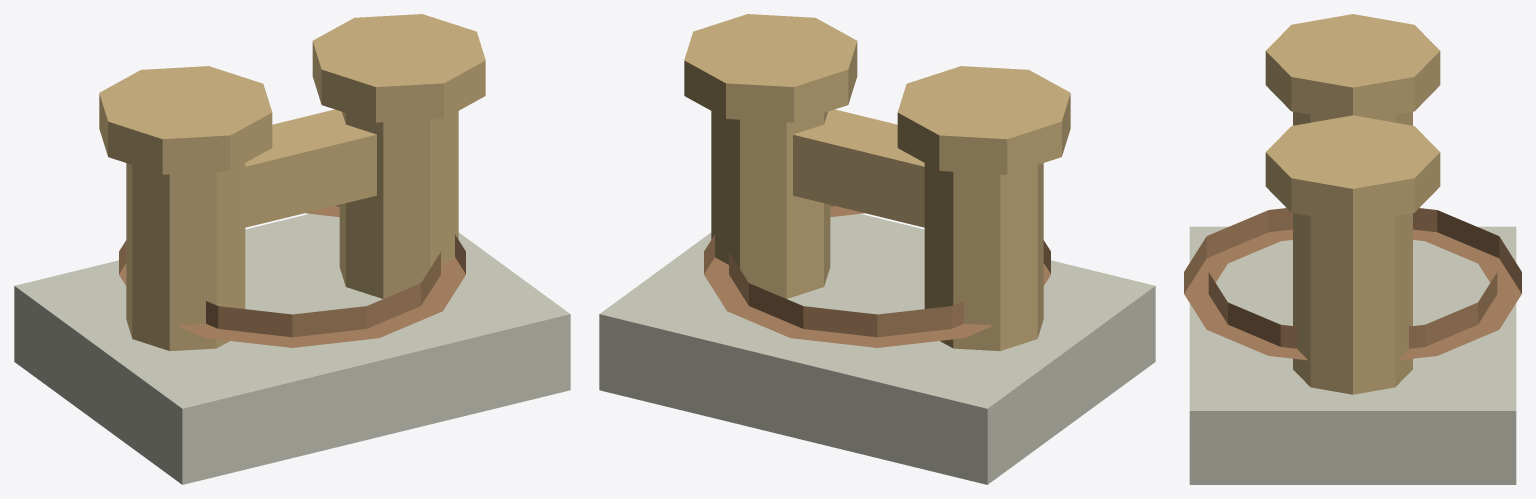
Rendered from tidal-bronze-mooring-bollard__274.glb.
3 views of the same model, side by side, from view 1: azimuth 30°, elevation 25°; view 2: azimuth 150°, elevation 25°; view 3: azimuth 270°, elevation 25° (orthographic). The views are drawn at different scales.
Visible parts, largest first — view 1: tidal-observatory-mooring-bollard; view 2: tidal-observatory-mooring-bollard; view 3: tidal-observatory-mooring-bollard.
Boxes of the visible parts, x1,y1,x2,y2 form: tidal-observatory-mooring-bollard: (14,14,570,484); tidal-observatory-mooring-bollard: (599,14,1155,484); tidal-observatory-mooring-bollard: (1184,14,1521,484).
Bounding box in the file's own units: 0.8 × 0.59 × 0.62.
